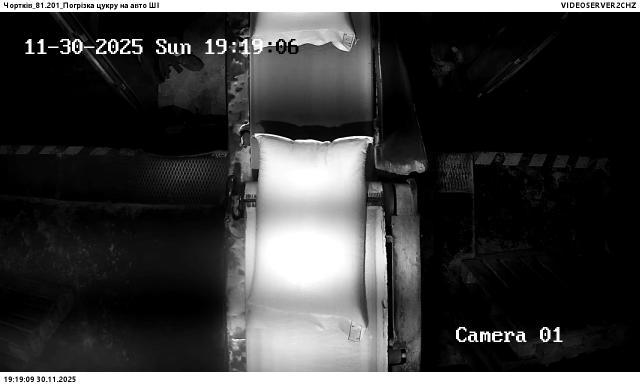bag: (248, 134, 374, 341), (254, 12, 358, 51)
